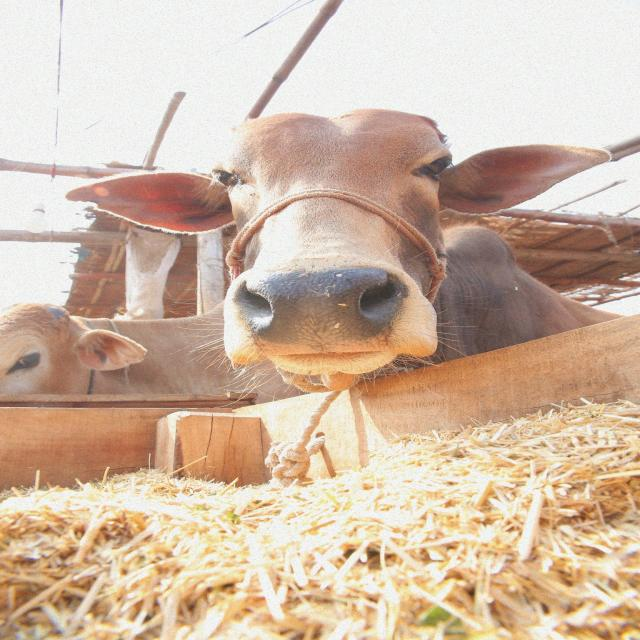muzzles: (215, 268, 414, 353)
